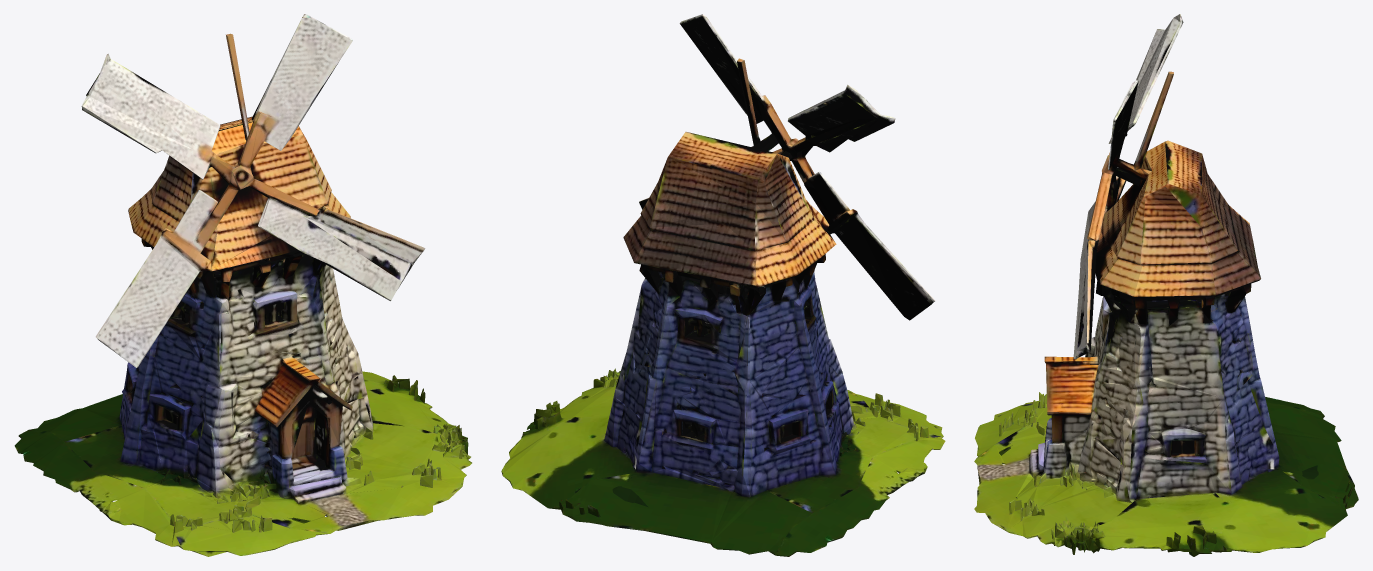
Rendered from landmark_windmill.glb.
3 views of the same model, side by side, from view 1: azimuth 30°, elevation 25°; view 2: azimuth 150°, elevation 25°; view 3: azimuth 270°, elevation 25° (orthographic). The views are drawn at different scales.
Parts seen in each view (by area): view 1: geometry_0; view 2: geometry_0; view 3: geometry_0.
Part boxes in pixels (<box>): geometry_0: <box>14,14,471,556</box>; geometry_0: <box>501,14,945,556</box>; geometry_0: <box>974,14,1358,556</box>.
Bounding box in the file's own units: 0.8666 × 0.9993 × 0.835.
1 material, 1 textured.
